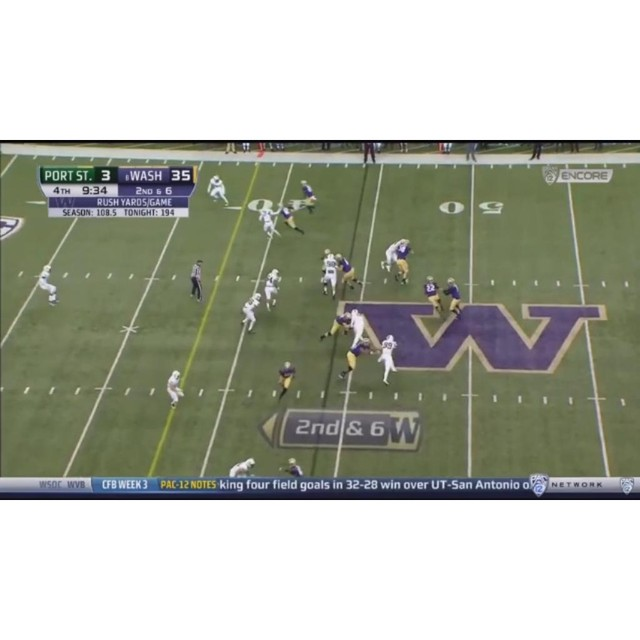american-football-player: (338, 336, 372, 380), (377, 333, 399, 386), (319, 310, 355, 342), (336, 253, 362, 291), (393, 239, 414, 286), (276, 203, 305, 236), (320, 251, 339, 300), (38, 264, 60, 306), (424, 274, 445, 316), (444, 278, 464, 320), (241, 293, 262, 333), (276, 361, 296, 401), (263, 268, 281, 312), (259, 207, 281, 239), (299, 180, 319, 214), (208, 174, 229, 206), (167, 371, 184, 408), (229, 457, 255, 477), (282, 458, 304, 476)
referee: (190, 260, 204, 302)
